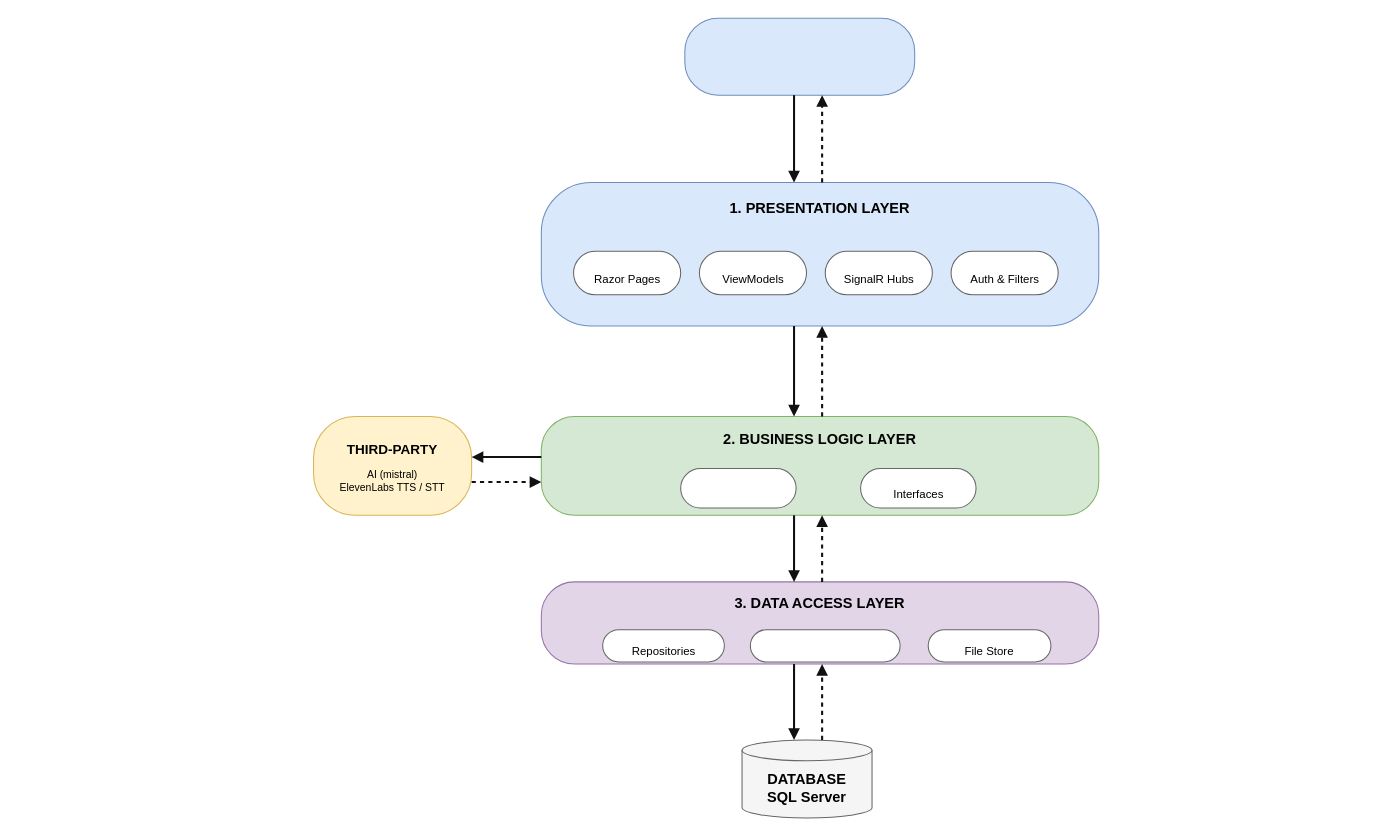
The diagram is 1397 pixels wide and 836 high, and some of its shapes have lost their labels. The centre of each missing label's shape, as x and y in pixels:
DbContext: (824,645)
Lecturer · Student · Admin Web Browser: (799,56)
Services: (738,487)
